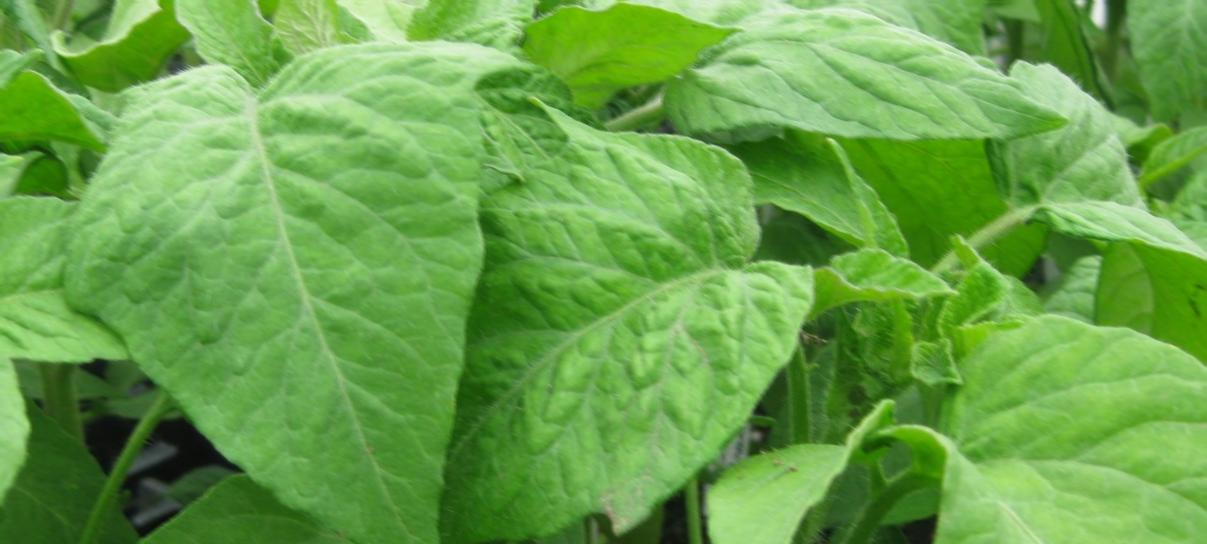Tomato leaf: (47, 0, 490, 544), (612, 0, 1058, 143)
